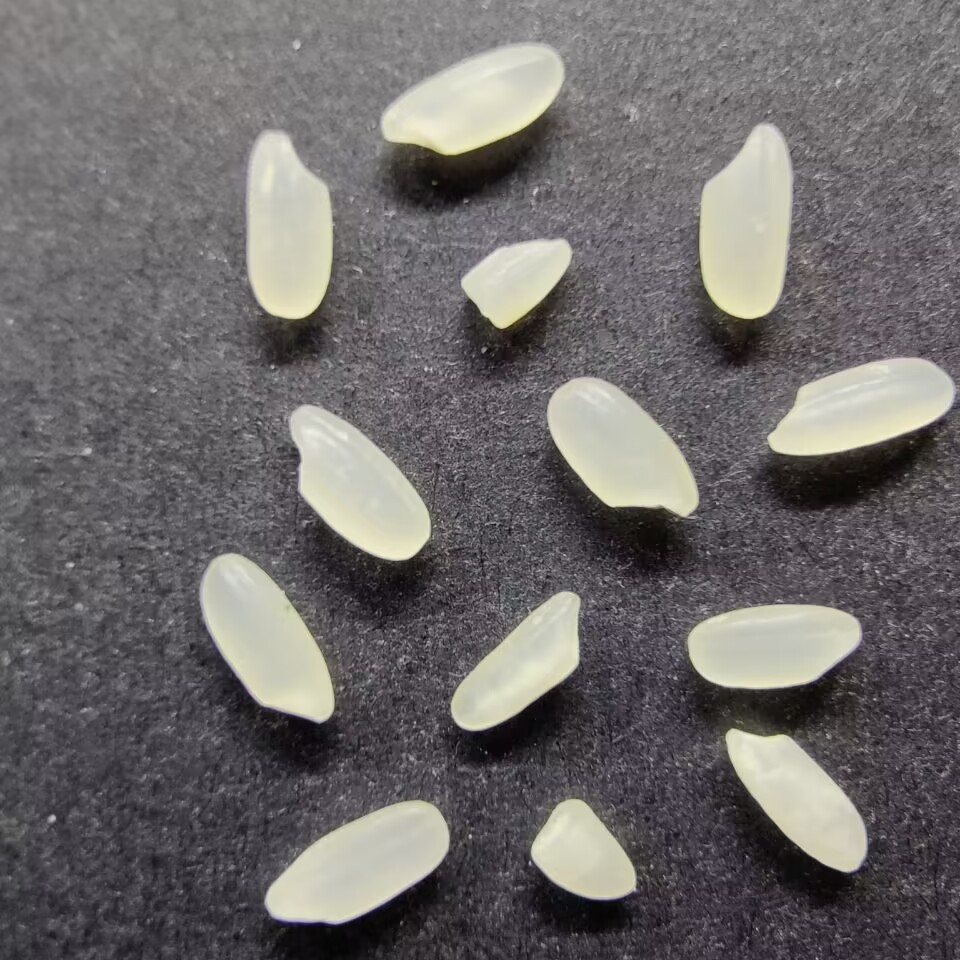broken: (528, 797, 640, 902), (457, 237, 573, 331)
rice: (198, 550, 337, 724), (262, 800, 452, 926), (544, 374, 701, 520), (289, 400, 430, 562), (725, 726, 871, 875), (377, 42, 566, 156), (697, 120, 795, 320), (766, 355, 957, 457), (449, 589, 582, 732), (241, 128, 333, 321), (686, 604, 862, 691)
